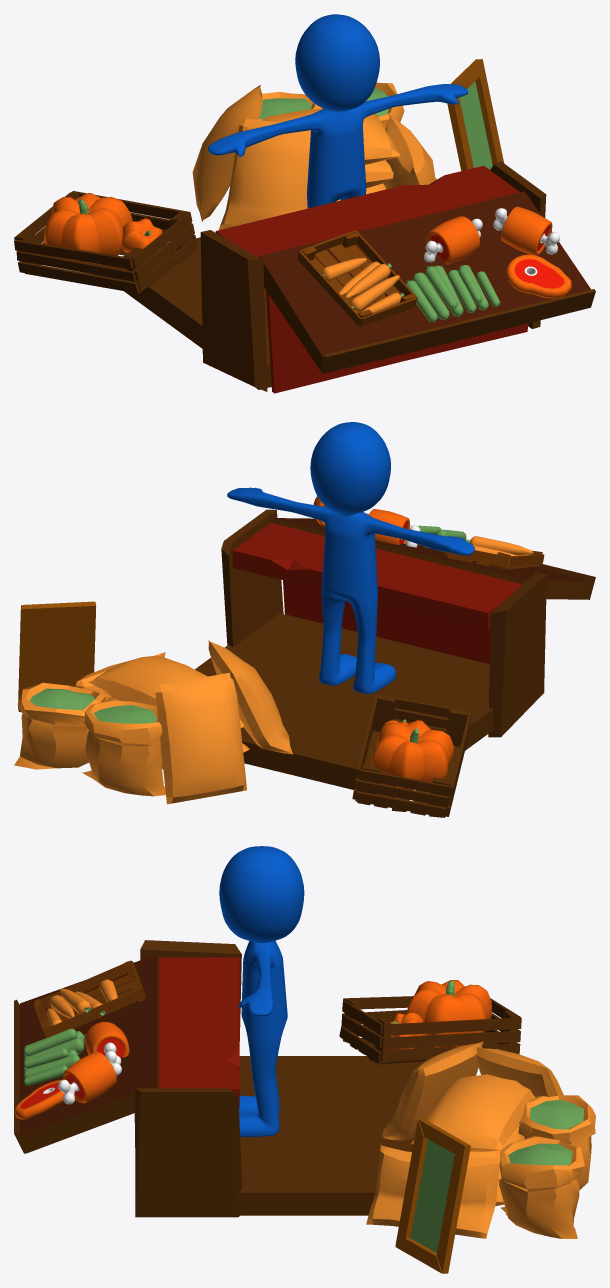
The model's file is Shop.fbx.
The picture shows the model from 3 angles, top to bottom: view 1: azimuth 30°, elevation 25°; view 2: azimuth 150°, elevation 25°; view 3: azimuth 270°, elevation 25°; orthographic projection. The views are drawn at different scales.
Parts seen in each view (by area): view 1: Table, Sack, Base, Pumpkin, carrot1, Board, cucumber, Meat1, Meat2, Meat; view 2: Table, Sack, Base, Pumpkin, Board, carrot1, Meat; view 3: Table, Sack, Base, Pumpkin, Board, carrot1, cucumber, Meat1, Meat, Meat2.
Part boxes in pixels (x1,y1,x2,y2): Table: [122, 161, 595, 393]; Sack: [192, 82, 436, 230]; Base: [208, 14, 467, 208]; Pumpkin: [14, 191, 197, 293]; carrot1: [297, 230, 417, 326]; Board: [447, 59, 503, 170]; cucumber: [406, 265, 500, 322]; Meat1: [493, 206, 559, 255]; Meat2: [506, 254, 571, 298]; Meat: [424, 216, 482, 264]; Table: [195, 509, 595, 797]; Sack: [14, 640, 292, 804]; Base: [227, 422, 474, 693]; Pumpkin: [352, 694, 471, 817]; Board: [18, 601, 96, 711]; carrot1: [444, 536, 544, 569]; Meat: [364, 509, 420, 547]; Table: [14, 940, 424, 1217]; Sack: [366, 1041, 595, 1238]; Base: [219, 846, 304, 1136]; Pumpkin: [339, 980, 521, 1064]; Board: [395, 1118, 470, 1273]; carrot1: [33, 960, 145, 1037]; cucumber: [23, 1028, 85, 1085]; Meat1: [58, 1051, 121, 1104]; Meat: [85, 1021, 129, 1064]; Meat2: [15, 1079, 64, 1119].
Size of the model in its own units: 559 by 339 by 587.
